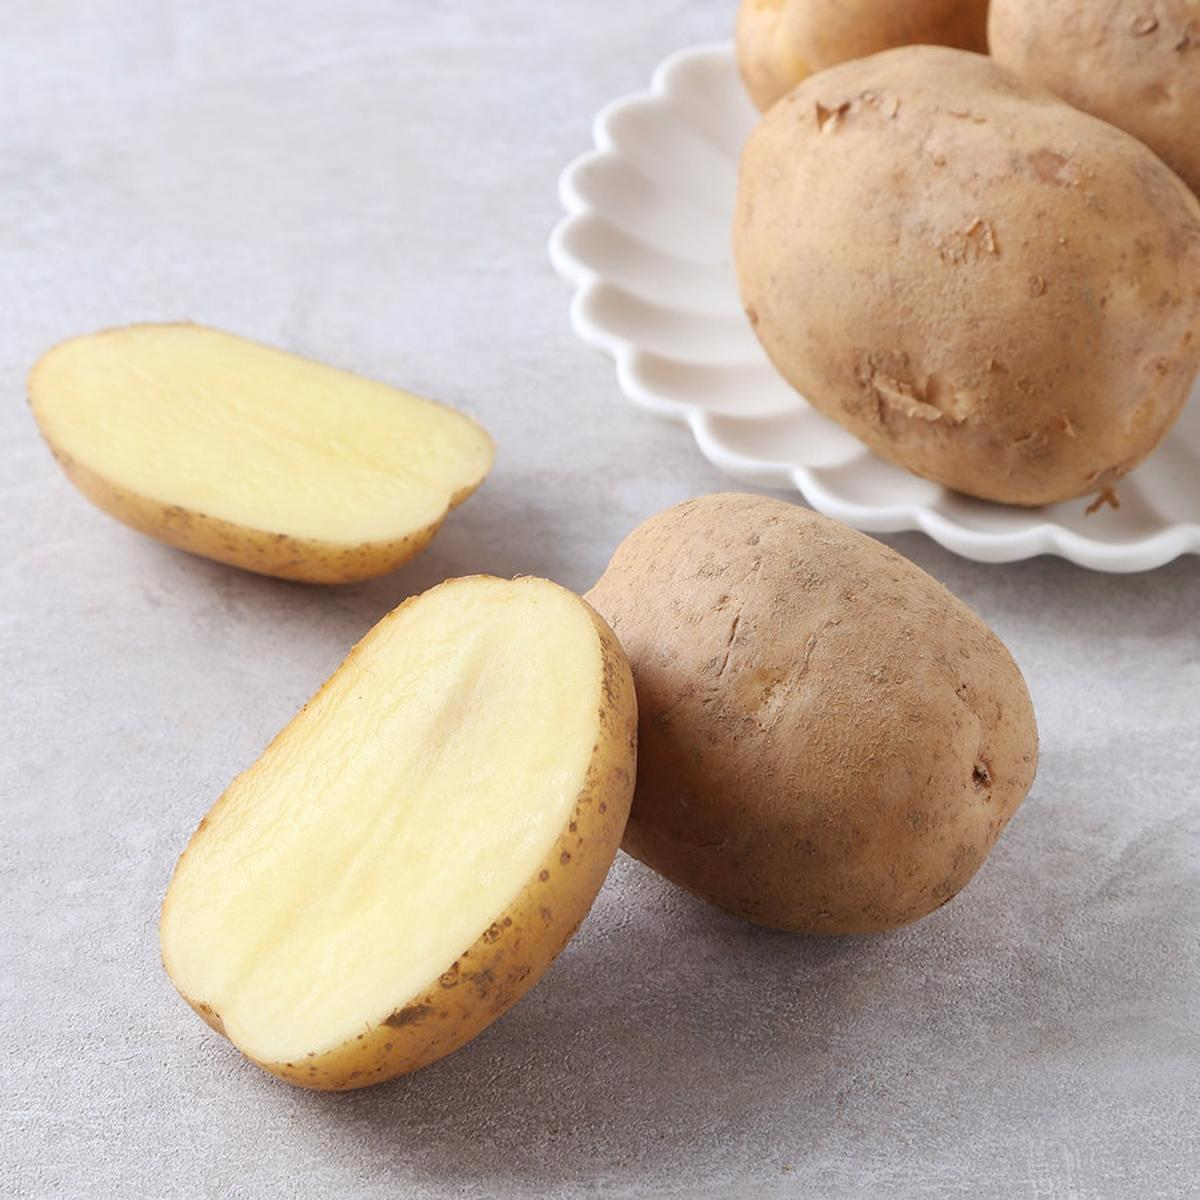potato: (773, 157, 1200, 953), (786, 800, 1200, 1200)
